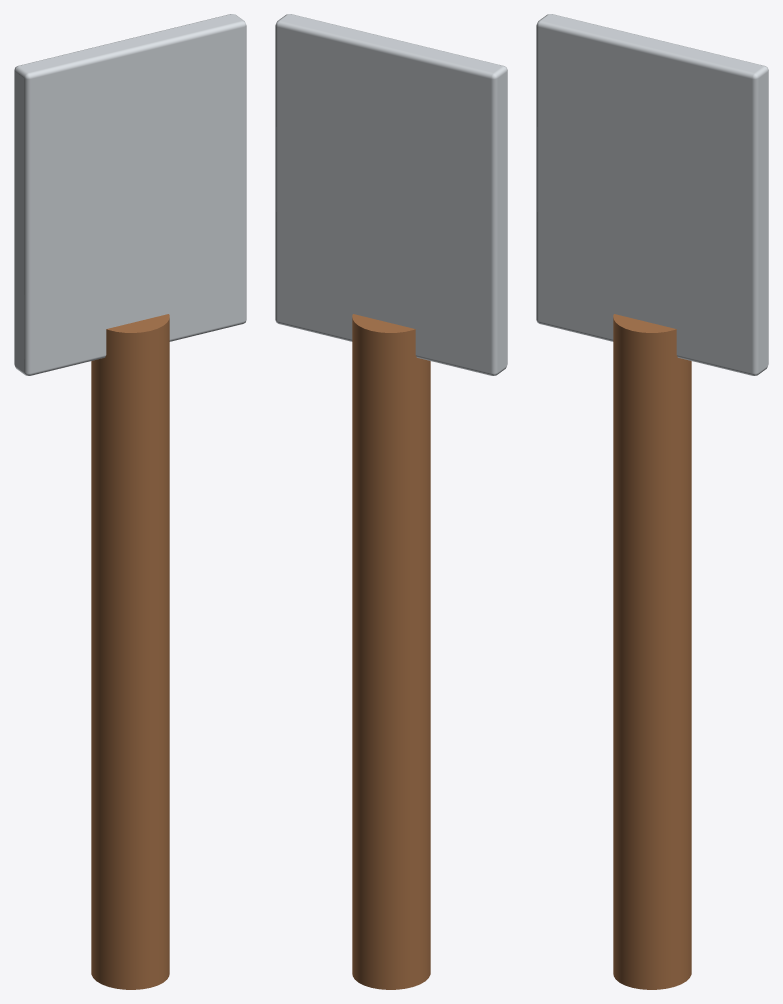
Rendered from wp-spatule.glb.
3 views of the same model, side by side, from view 1: azimuth 30°, elevation 25°; view 2: azimuth 150°, elevation 25°; view 3: azimuth 330°, elevation 25° (orthographic).
Visible parts, largest first — view 1: wp-spatule; view 2: wp-spatule; view 3: wp-spatule.
Part boxes in pixels (x1,y1,x2,y2): wp-spatule: (14,14,246,989); wp-spatule: (275,14,507,989); wp-spatule: (536,14,768,989).
Size of the model in its own units: 0.08 by 0.32 by 0.025.
